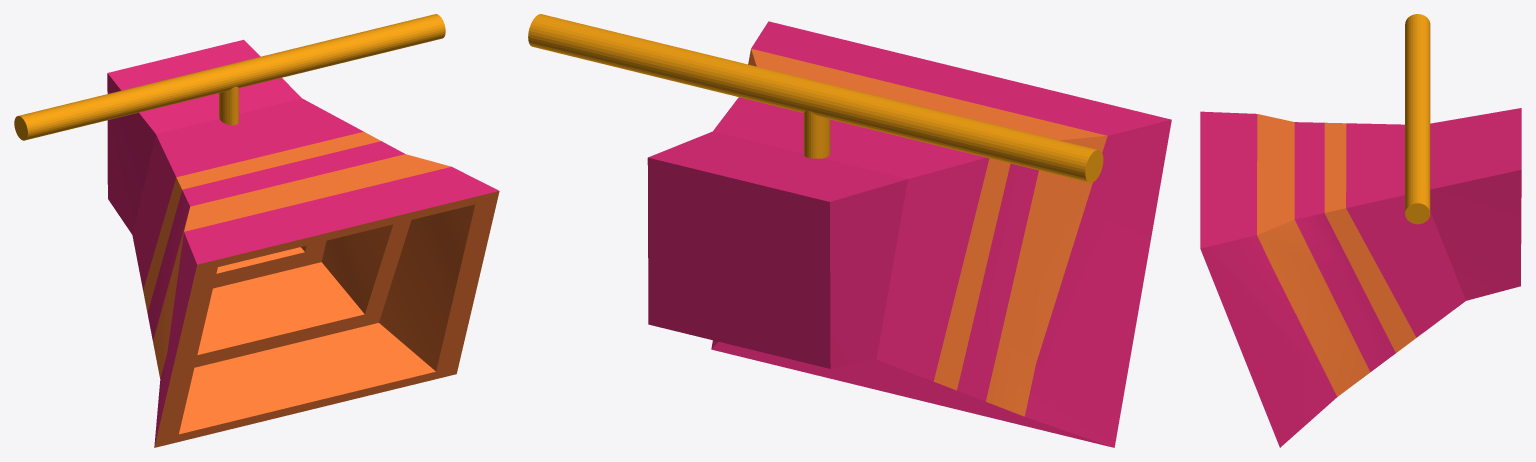
Rendered from vacuum4.fbx.
The picture shows the model from 3 angles, left to right: view 1: azimuth 30°, elevation 25°; view 2: azimuth 150°, elevation 25°; view 3: azimuth 270°, elevation 25°; orthographic projection. The views are drawn at different scales.
Visible parts, largest first — view 1: Usisivac1.003; view 2: Usisivac1.003; view 3: Usisivac1.003.
Part boxes in pixels (x1=…): Usisivac1.003: x1=14, y1=14, x2=499, y2=447; Usisivac1.003: x1=528, y1=14, x2=1171, y2=447; Usisivac1.003: x1=1200, y1=14, x2=1521, y2=447.
Size of the model in its own units: 185 by 123 by 133.
